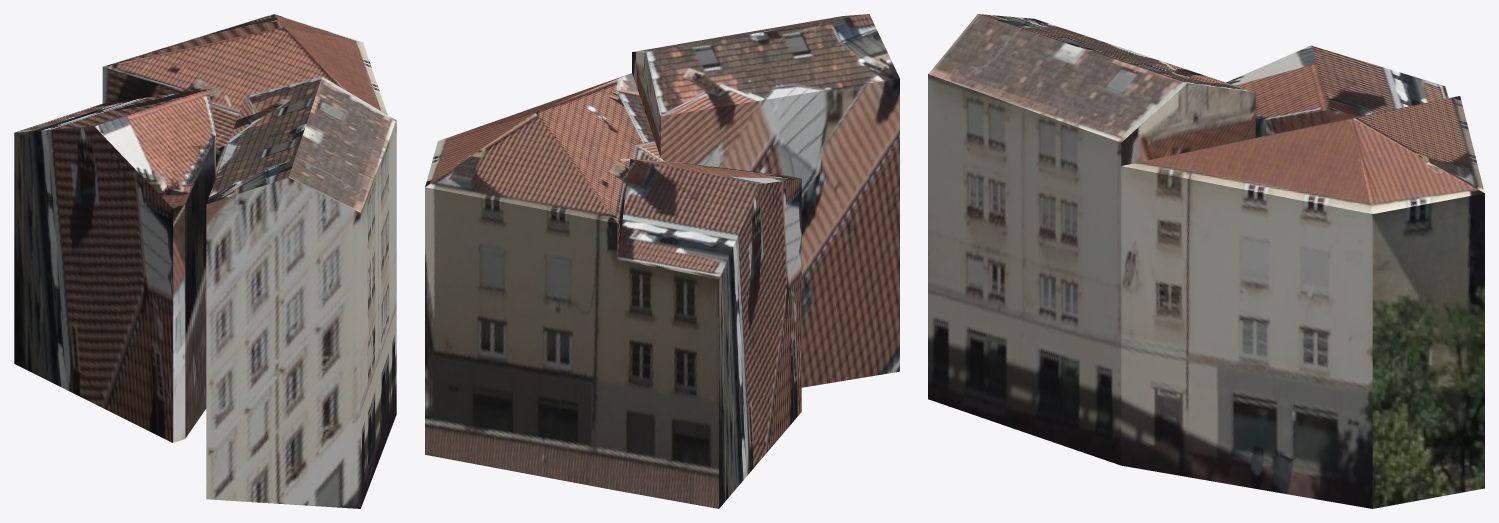
3 renders of one model, left to right at view 1: azimuth 30°, elevation 25°; view 2: azimuth 150°, elevation 25°; view 3: azimuth 270°, elevation 25°, orthographic. The views are drawn at different scales.
Visible parts, largest first — view 1: Z_UP; view 2: Z_UP; view 3: Z_UP.
Part boxes in pixels (bbox=[...]): Z_UP: bbox=[14, 14, 396, 508]; Z_UP: bbox=[425, 14, 899, 508]; Z_UP: bbox=[928, 14, 1484, 508].
Bounding box in the file's own units: 16.83 × 16.64 × 23.4.
2 materials, 1 textured.
